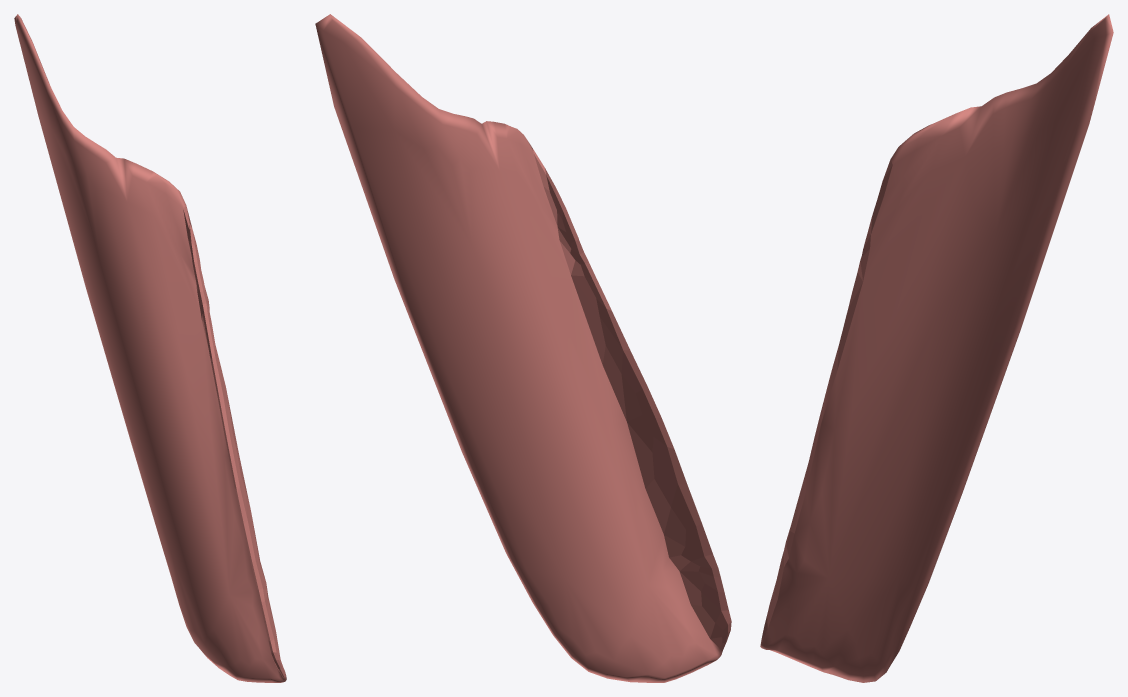
3 views of the same model, side by side, from view 1: azimuth 90°, elevation 25°; view 2: azimuth 150°, elevation 25°; view 3: azimuth 270°, elevation 25° (orthographic). The views are drawn at different scales.
Parts seen in each view (by area): view 1: ZA_e3dd1d85a0824ce7; view 2: ZA_e3dd1d85a0824ce7; view 3: ZA_e3dd1d85a0824ce7.
Part boxes in pixels (left/top/right/bottom): ZA_e3dd1d85a0824ce7: left=14, top=14, right=286, bottom=682; ZA_e3dd1d85a0824ce7: left=315, top=14, right=731, bottom=682; ZA_e3dd1d85a0824ce7: left=760, top=14, right=1113, bottom=682.
Bounding box in the file's own units: 0.0149 × 0.0397 × 0.0167.
